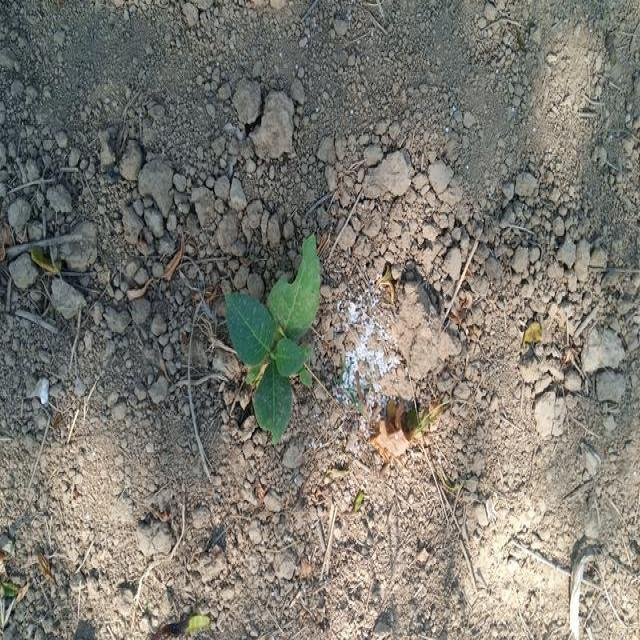crop: (232, 243, 322, 443)
